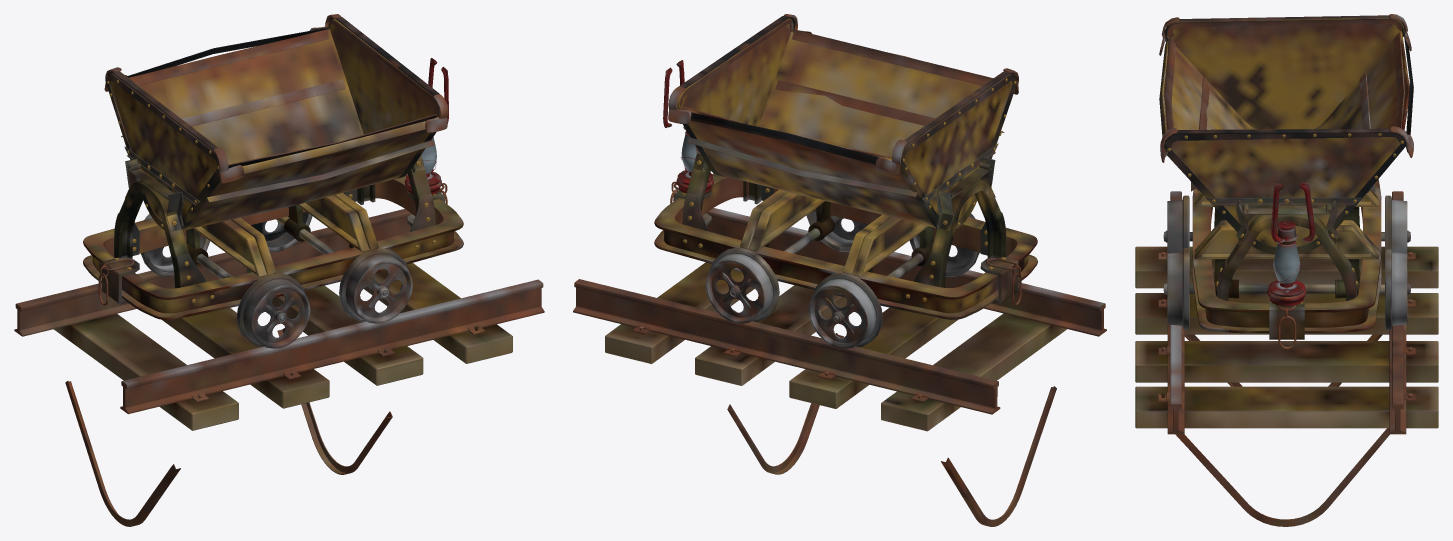
File: chariot_minier.glb
The picture shows the model from 3 angles, left to right: view 1: azimuth 30°, elevation 25°; view 2: azimuth 150°, elevation 25°; view 3: azimuth 270°, elevation 25°; orthographic projection. The views are drawn at different scales.
Parts seen in each view (by area): view 1: cadrage_aiStandardSurface1_0, attache_double; view 2: cadrage_aiStandardSurface1_0, attache_double; view 3: cadrage_aiStandardSurface1_0, attache_double, object 3.
Boxes of the visible parts, bbox=[...] form: cadrage_aiStandardSurface1_0: bbox=[14, 14, 544, 430]; attache_double: bbox=[65, 328, 392, 526]; cadrage_aiStandardSurface1_0: bbox=[573, 14, 1106, 431]; attache_double: bbox=[727, 333, 1056, 526]; cadrage_aiStandardSurface1_0: bbox=[1135, 14, 1438, 434]; attache_double: bbox=[1175, 334, 1389, 526]; object 3: bbox=[1271, 183, 1315, 242].
Bounding box in the file's own units: 6.27 × 5.83 × 3.78.
1 material, 1 textured.
